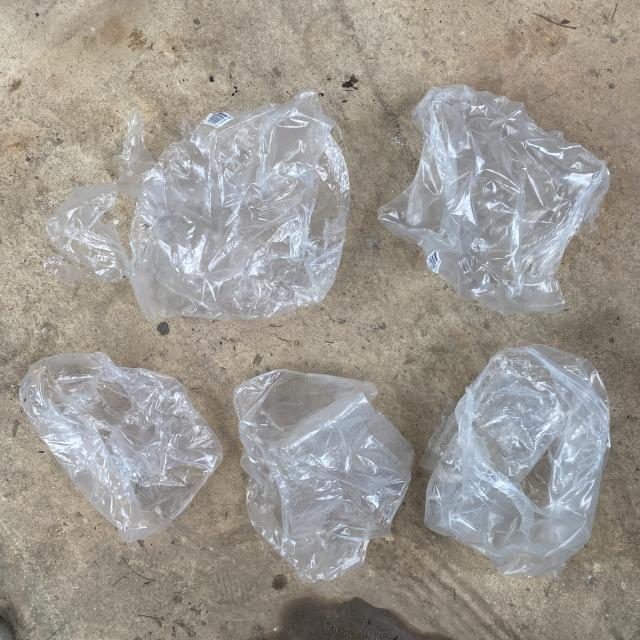Single-layer Plastic: (45, 90, 349, 320), (379, 85, 610, 315), (420, 346, 609, 578), (234, 370, 414, 584), (20, 352, 222, 542)
